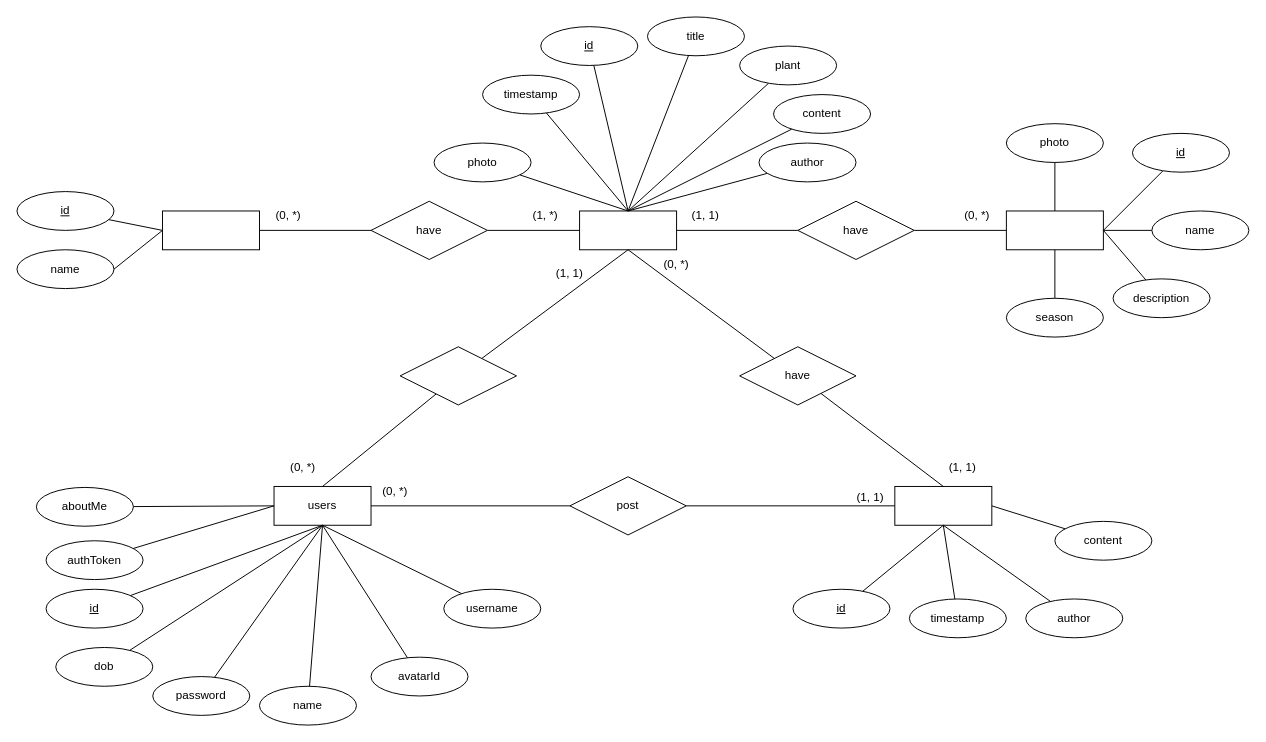
Image size: 1266x742. Some labels were removed from this diagram. The shapes that lost their labels are listed below. From the top down, each one's centre as x and y in pixels, then its label:
At point (210, 230): "tags".
At point (628, 230): "articles".
At point (1054, 230): "plants".
At point (458, 375): "write".
At point (943, 505): "comments".
